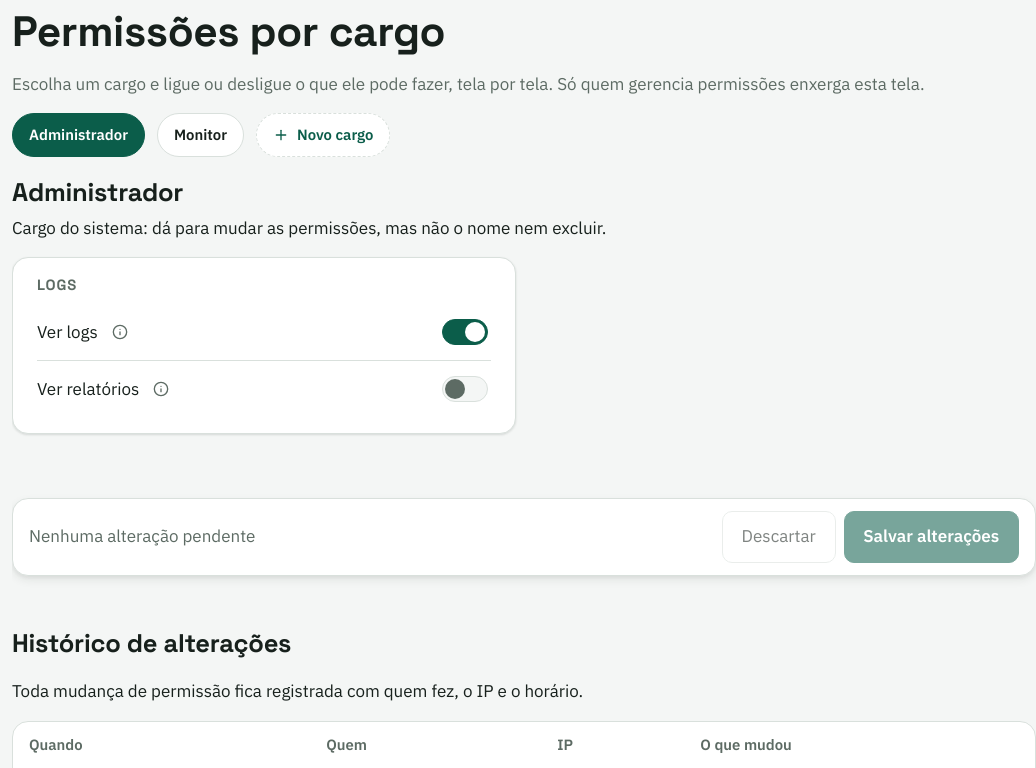
Test: PermissionsPage - edição e salvamento › bloqueia os botões enquanto salva
Expected: the tab "Administrador" is shown, [12, 113, 145, 157]
Click the checkbox labelled "Ver relatórios" at x=465, y=389, box [442, 376, 488, 402]
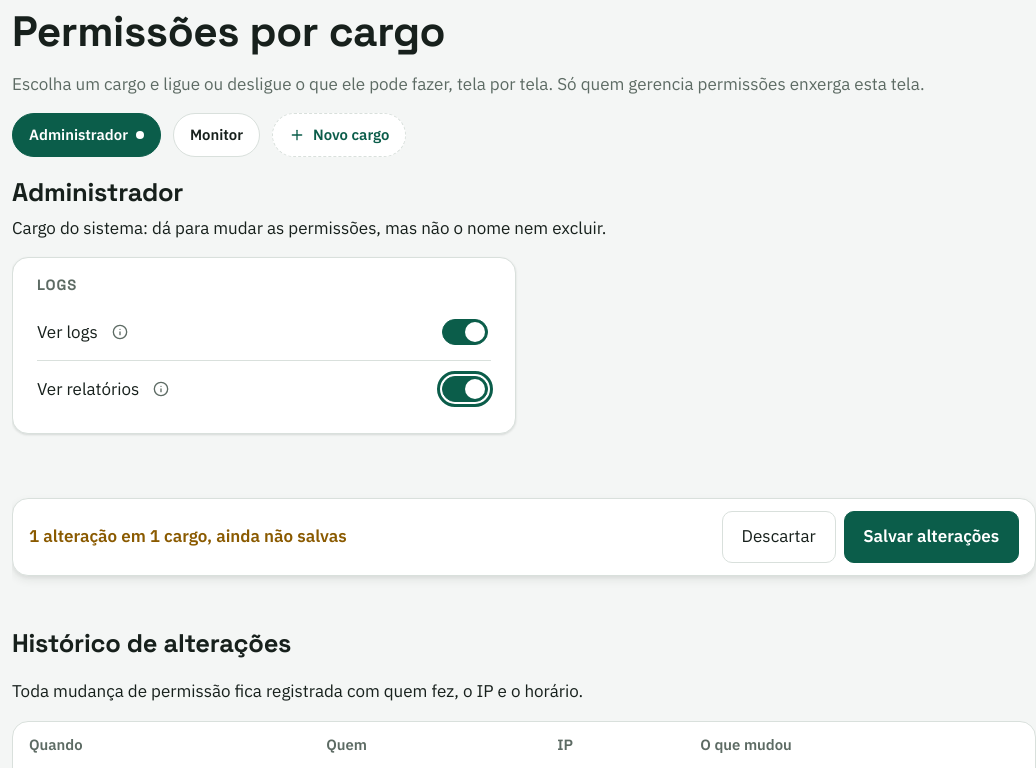
Click the button "Salvar alterações" at x=931, y=537, box [844, 511, 1019, 563]
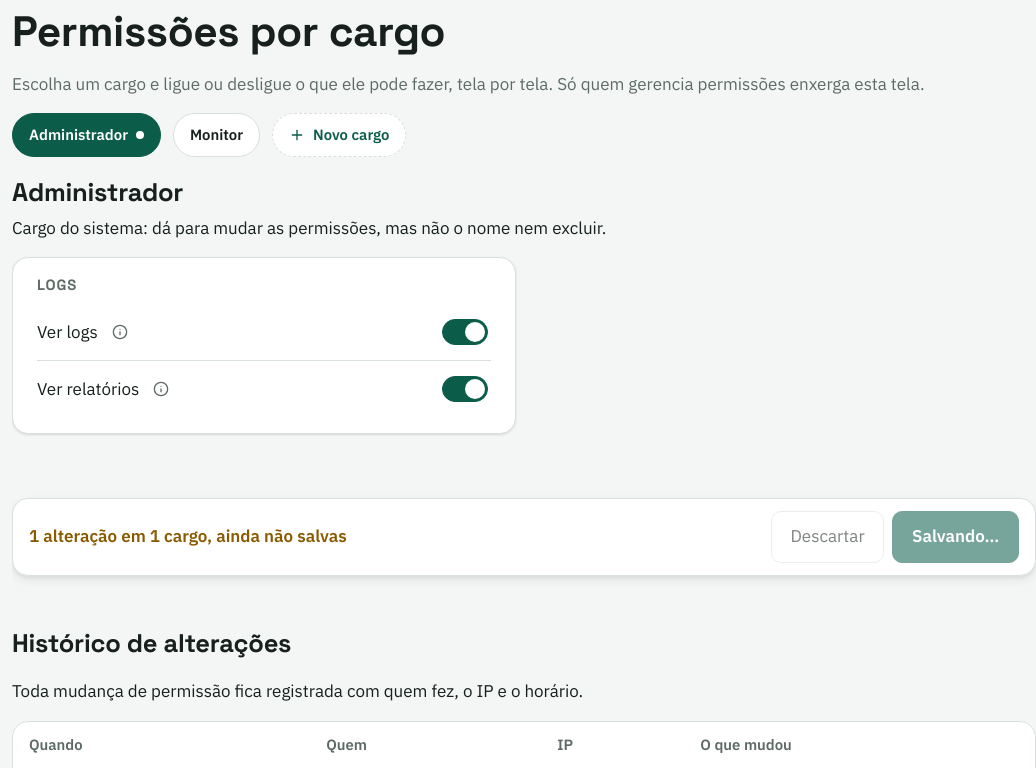
Result: the button "Salvando…" is disabled at [892, 511, 1019, 563]
Result: the button "Descartar" is disabled at [771, 511, 884, 563]
